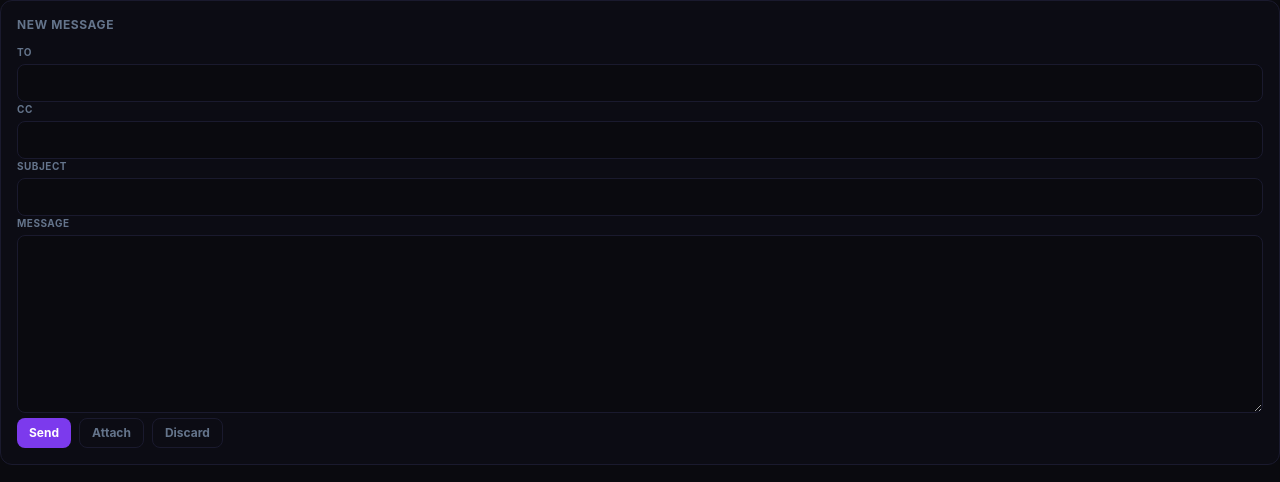
Test: Compose draft lifecycle › keeps the draft when the submit is accepted
In the field labelled "To": (640, 83) 17,64 -> 1263,102, type "a@example.com"
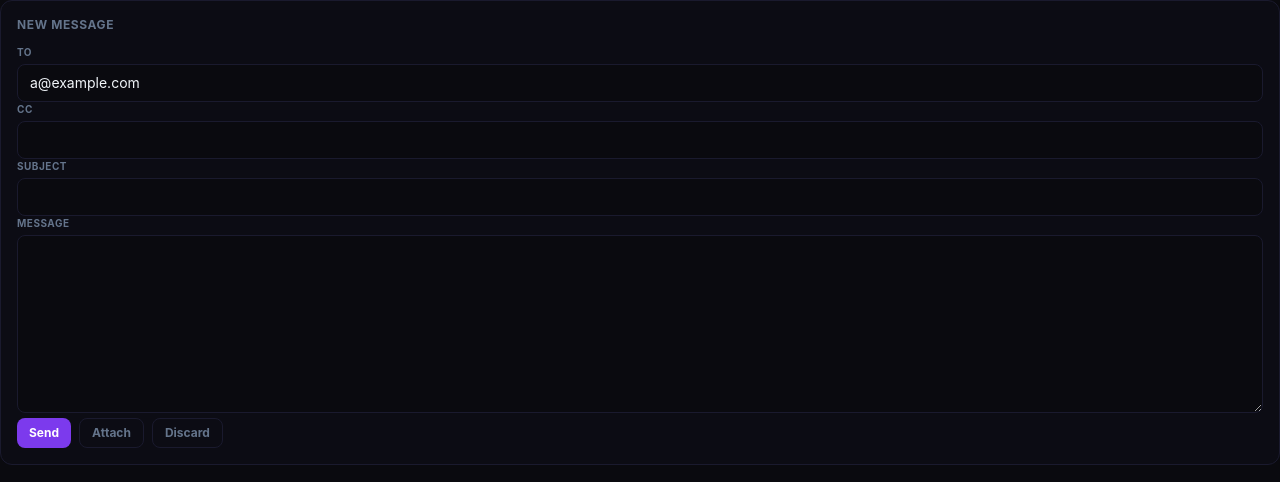
Click the button "Send": click(44, 433) 17,418 -> 71,448
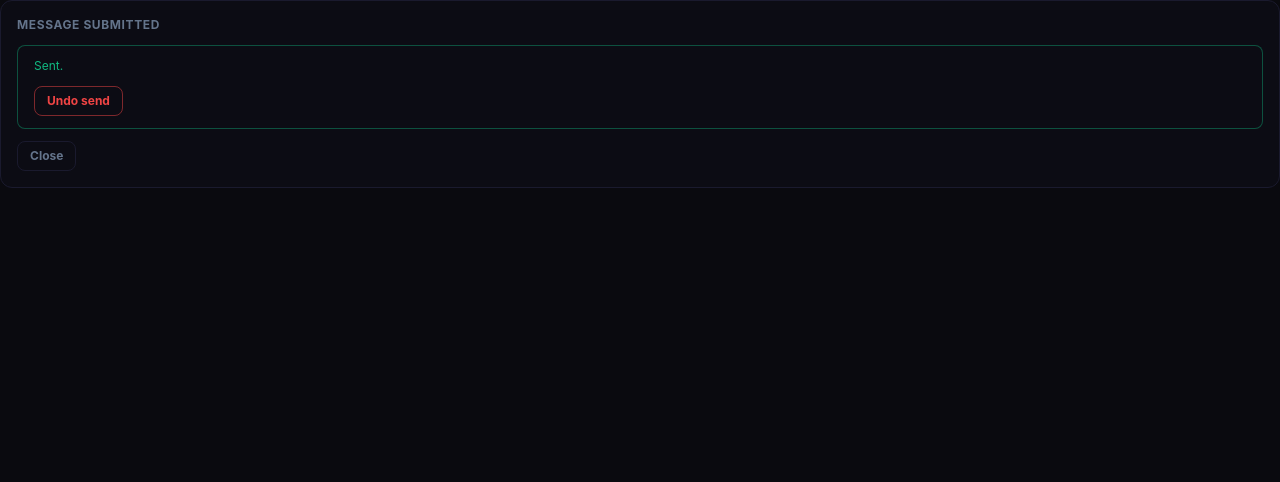
Now the heading "Message submitted" is shown, box 17,17 -> 160,33
